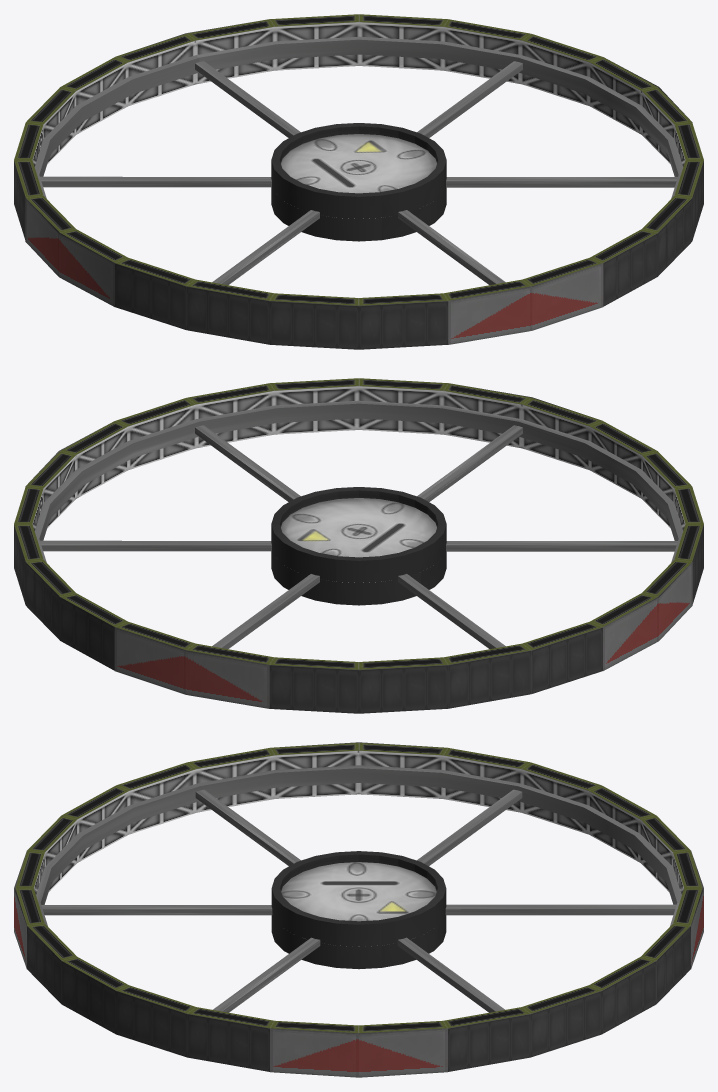
File: S25Separator.FBX
The picture shows the model from 3 angles, top to bottom: view 1: azimuth 30°, elevation 25°; view 2: azimuth 150°, elevation 25°; view 3: azimuth 270°, elevation 25°; orthographic projection.
Visible parts, largest first — view 1: MainBody, Cylinder047, Tube003, DecouplerDecals, Box109, Cylinder048, Box108, Box110; view 2: MainBody, Cylinder047, Tube003, DecouplerDecals, Box110, Cylinder048, Box108, Box109; view 3: MainBody, Cylinder047, Tube003, DecouplerDecals, Box108, Cylinder048, Box109, Box110.
Boxes of the visible parts, left/top/right/bottom form: MainBody: left=14, top=14, right=703, bottom=349; Cylinder047: left=271, top=123, right=446, bottom=218; Tube003: left=34, top=36, right=683, bottom=198; DecouplerDecals: left=25, top=19, right=692, bottom=344; Box109: left=40, top=176, right=677, bottom=187; Cylinder048: left=271, top=185, right=446, bottom=241; Box108: left=195, top=61, right=505, bottom=285; Box110: left=212, top=61, right=522, bottom=285; MainBody: left=14, top=378, right=703, bottom=713; Cylinder047: left=271, top=487, right=446, bottom=582; Tube003: left=34, top=400, right=683, bottom=562; DecouplerDecals: left=25, top=383, right=692, bottom=708; Box110: left=40, top=540, right=677, bottom=551; Cylinder048: left=271, top=549, right=446, bottom=605; Box108: left=212, top=425, right=522, bottom=648; Box109: left=195, top=425, right=505, bottom=648; MainBody: left=15, top=743, right=702, bottom=1071; Cylinder047: left=271, top=851, right=446, bottom=946; Tube003: left=36, top=765, right=681, bottom=926; DecouplerDecals: left=14, top=742, right=703, bottom=1077; Box108: left=41, top=904, right=676, bottom=915; Cylinder048: left=271, top=912, right=446, bottom=969; Box109: left=213, top=789, right=522, bottom=1012; Box110: left=195, top=789, right=504, bottom=1012.
Size of what is drawn, in the model's own units: 2.51 by 0.1783 by 2.51.
